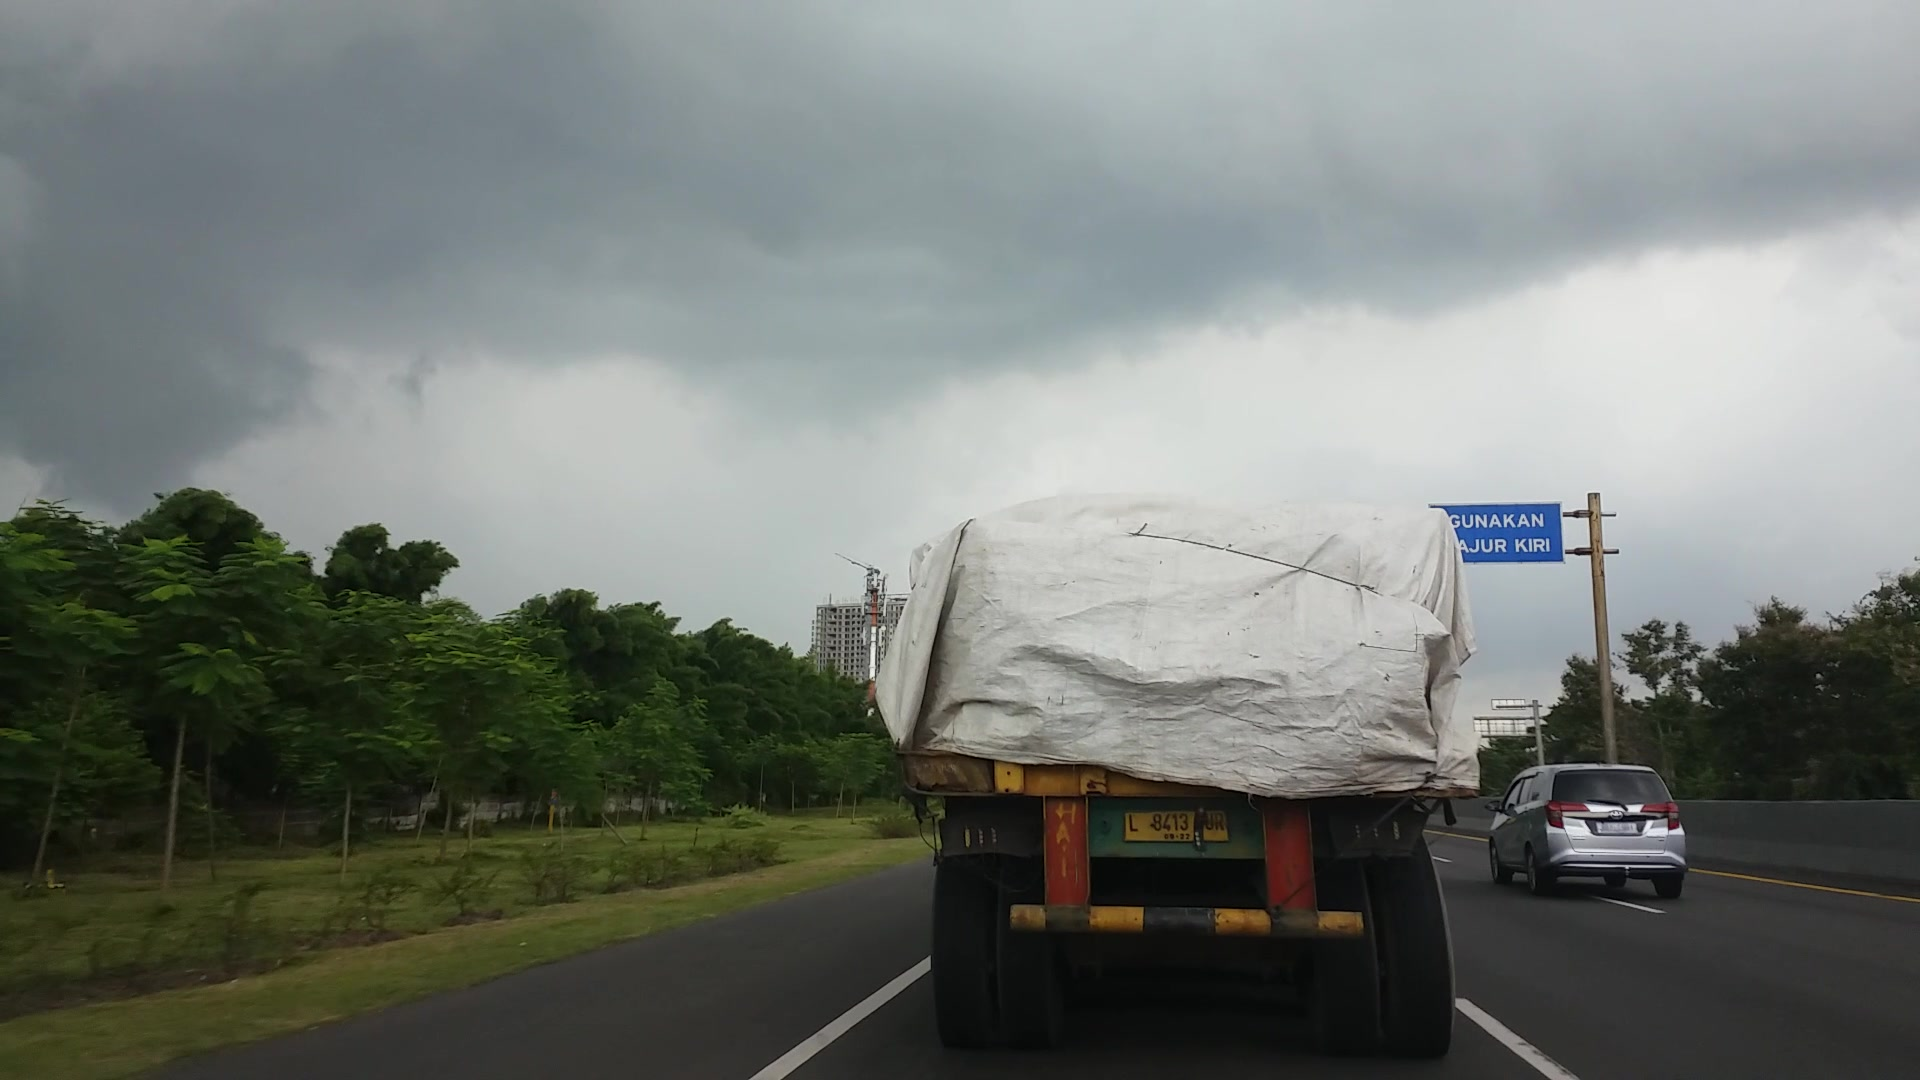plate_positive: (1124, 808, 1229, 843)
